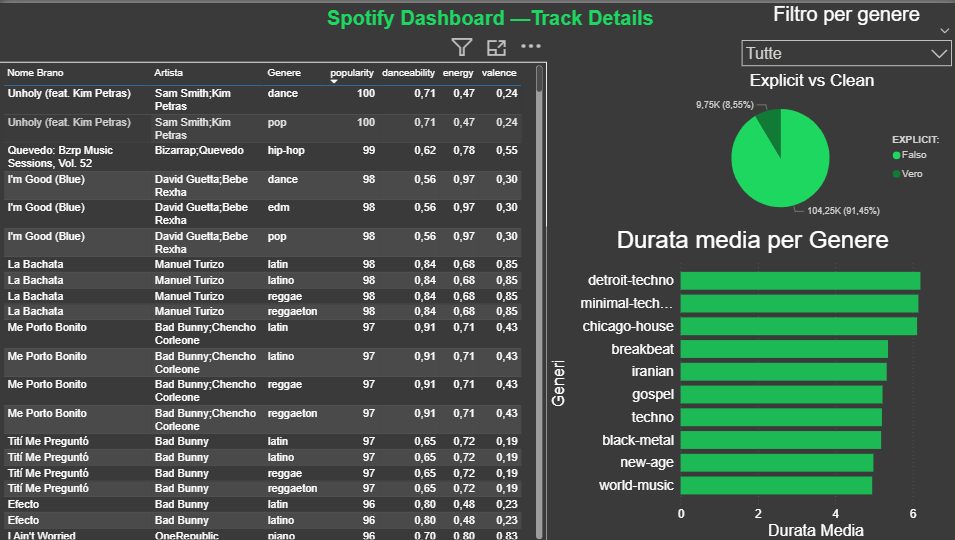

What the dashboard file says about the page in this screenshot:
{"tool":"powerbi","page":{"name":"Track Details","canvas":[1280,720],"ordinal":2},"visuals":[{"type":"tableEx","fields":{"Values":["spotify_tracks.track_name","spotify_tracks.Artisti","spotify_tracks.track_genre","spotify_tracks.popularity","spotify_tracks.danceability","spotify_tracks.energy","spotify_tracks.valence"]},"box":[0,78.3,730,641.7],"z":0},{"type":"clusteredBarChart","title":"Durata media per Genere","fields":{"Category":["spotify_tracks.track_genre"],"Y":["Avg(spotify_tracks.Duration (min))"]},"box":[730,298.3,550,421.7],"z":1000},{"type":"slicer","title":"Filtro per genere","fields":{"Values":["spotify_tracks.track_genre"]},"box":[980,0,300,90],"z":2000},{"type":"pieChart","title":"Explicit vs Clean","fields":{"Category":["spotify_tracks.explicit"],"Y":["CountNonNull(spotify_tracks.track_id)"]},"box":[888.3,90,391.7,208.3],"z":3000},{"type":"textbox","box":[396.7,0,516.7,45],"z":4000}]}

Visuals, with their boxes in screenshot pixels (x1, y1, x2, y2), scaled from the page's 1280x720 canvas onto the 955x540 screenshot:
tableEx - spotify_tracks.track_name x spotify_tracks.Artisti: detection(0, 59, 545, 539)
"Durata media per Genere" clusteredBarChart: detection(545, 224, 954, 539)
"Filtro per genere" slicer: detection(731, 0, 954, 68)
"Explicit vs Clean" pieChart: detection(663, 68, 954, 224)
textbox: detection(296, 0, 681, 34)
